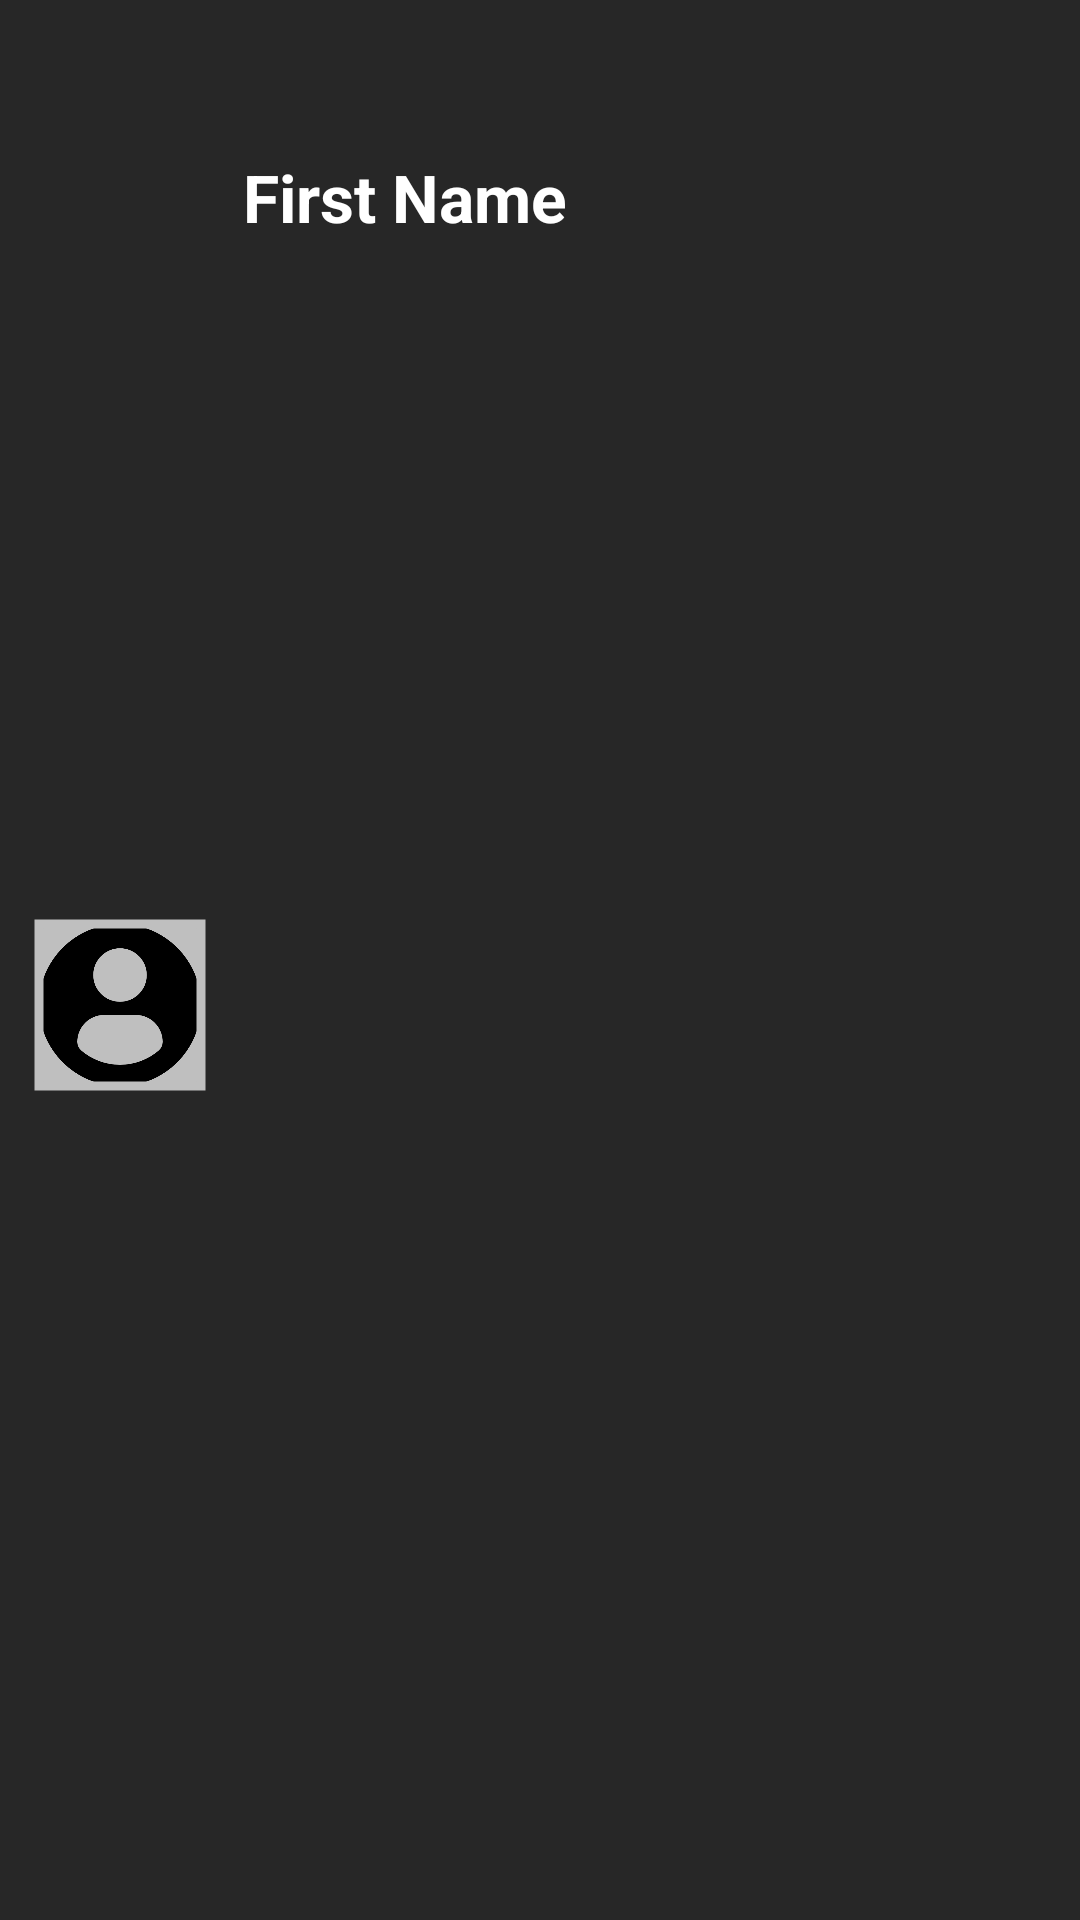

Icon click points for this 1080px×1920px phone screenshot, format point (x, y):
flaticon profile user: point (120, 1005)
